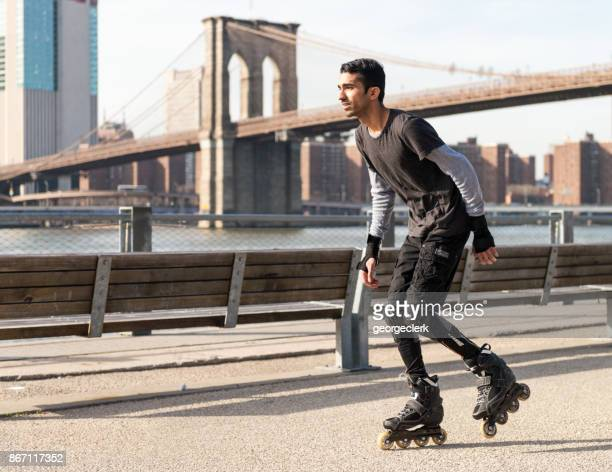roller_blade: (466, 357, 537, 436), (380, 379, 443, 449)
